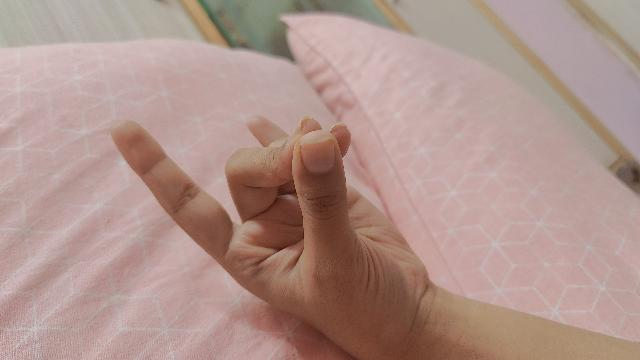sinhamukh: (112, 118, 640, 360)
